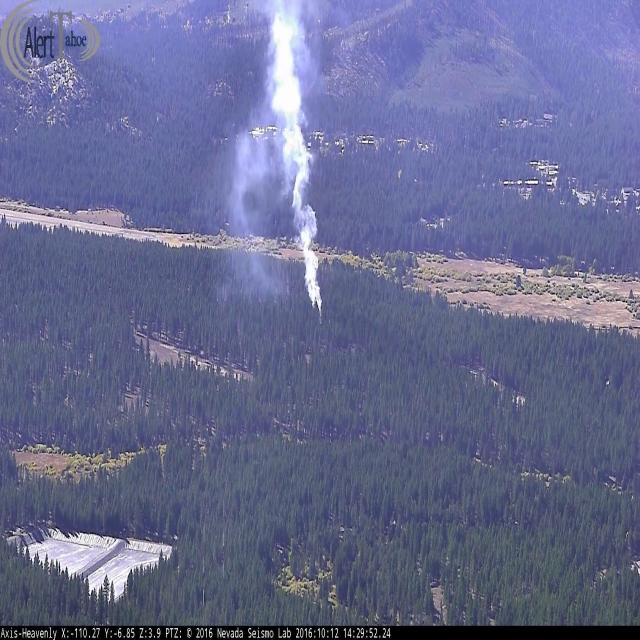smoke: (254, 7, 336, 311)
